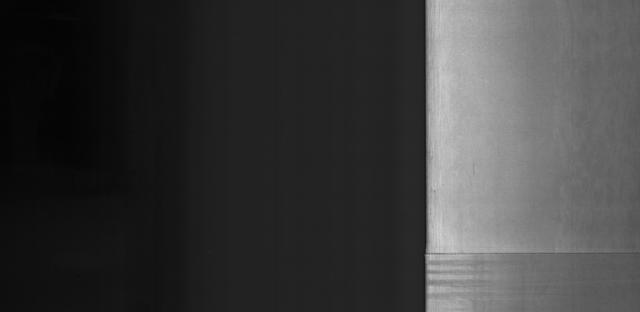welding_line: (433, 246, 636, 261)
